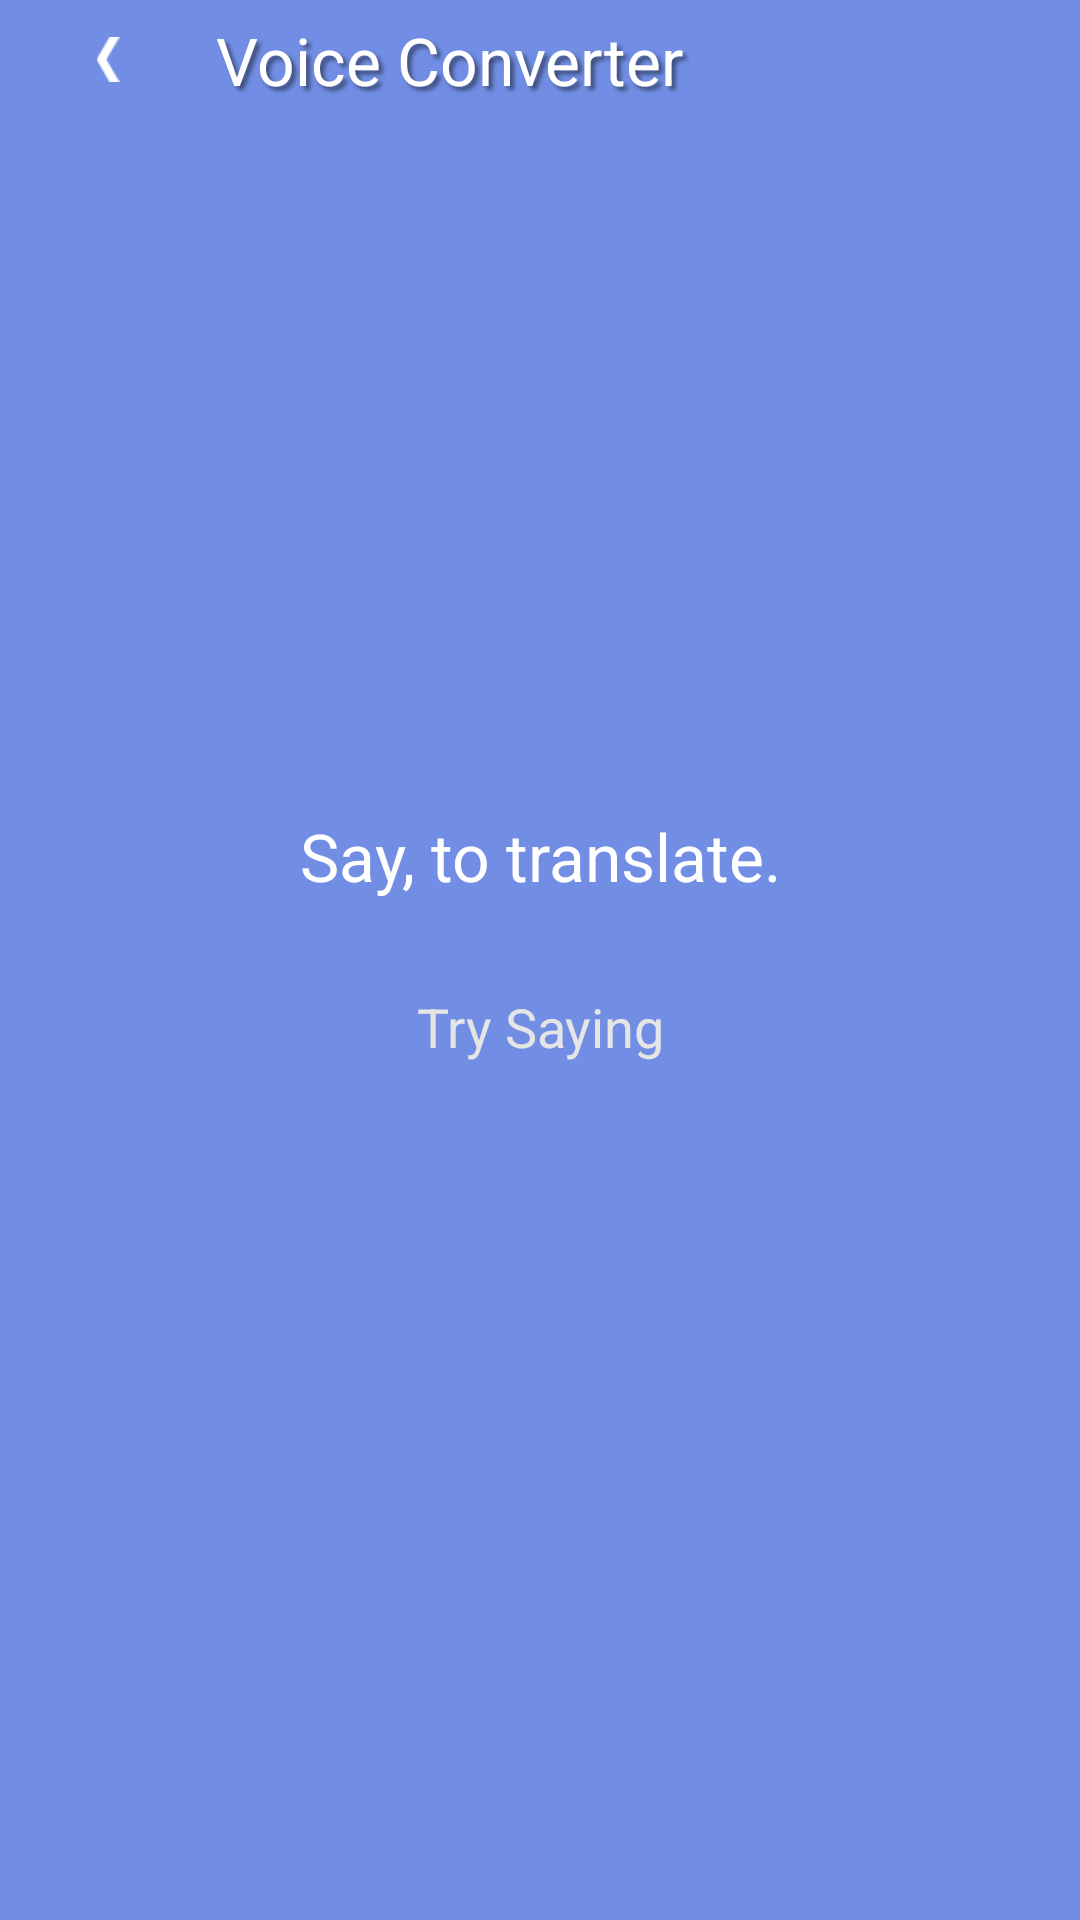

Icon click points for this 1080w x 1920h phone screenshot, format [x,y]:
back arrow: [108,59]
